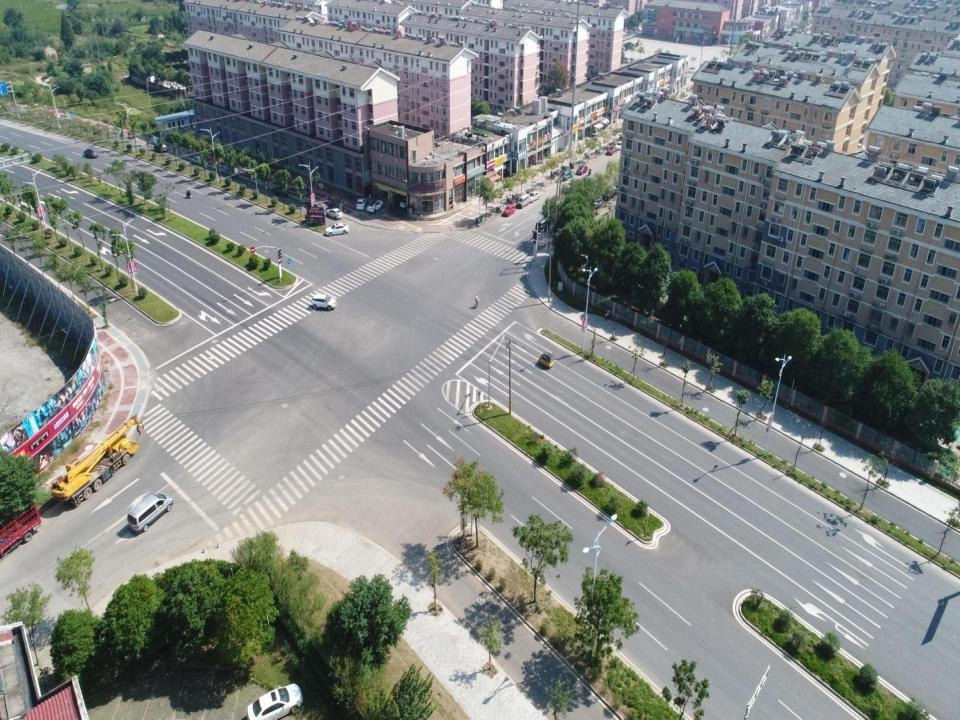car: (246, 682, 305, 719), (312, 295, 337, 311), (324, 223, 350, 237), (537, 351, 554, 369), (366, 198, 384, 214), (305, 198, 322, 210), (327, 208, 343, 219), (503, 204, 515, 217), (84, 147, 98, 158), (528, 190, 540, 202), (399, 196, 411, 208), (356, 197, 366, 210), (576, 164, 588, 174), (606, 146, 617, 156), (615, 140, 625, 151)
truck: (0, 505, 42, 559)
van: (126, 492, 174, 534), (535, 217, 552, 233), (517, 193, 530, 209)
